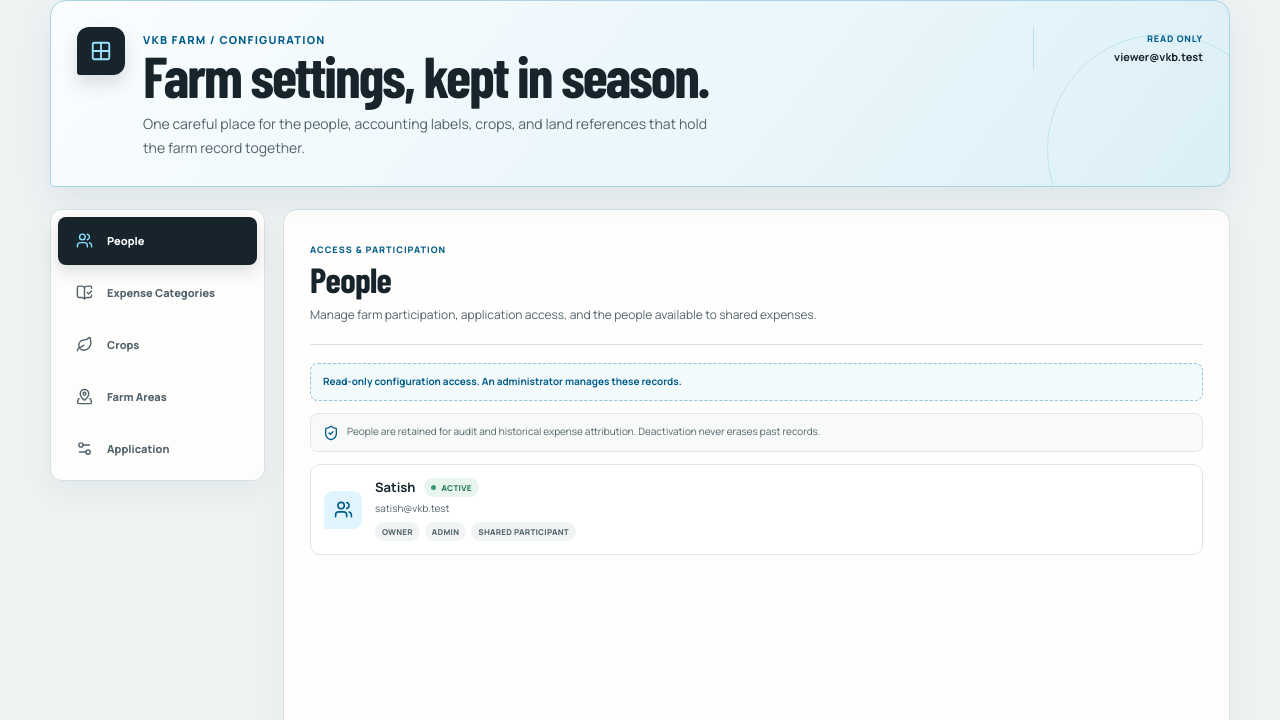
Test: SettingsPage › shows fixed application facts without deployment identifiers or a save form
Click the button "Application".
click(158, 449)  # box [58,425,257,473]
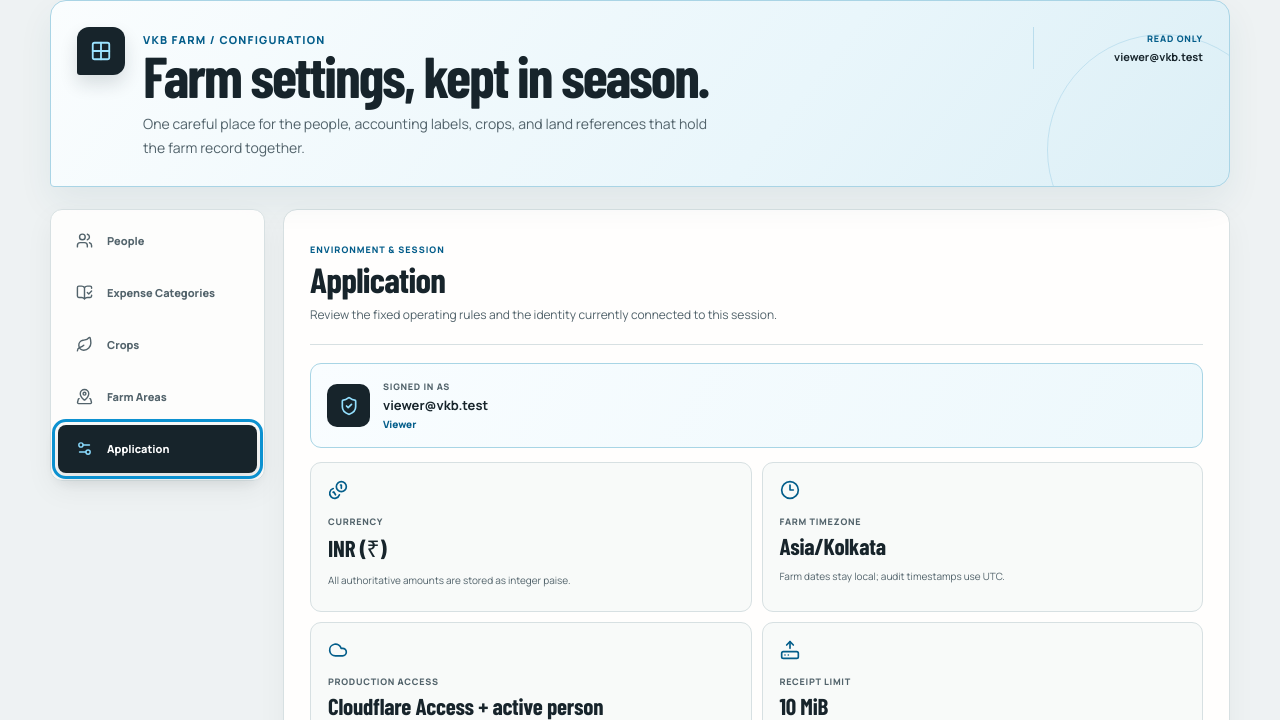
Expected: the text "viewer@vkb.test" below "Signed in as" is shown, [383,396,488,414]
Expected: the text "Viewer" is shown, [383,417,416,431]
Expected: the text "INR (₹)" is shown, [328,534,386,562]
